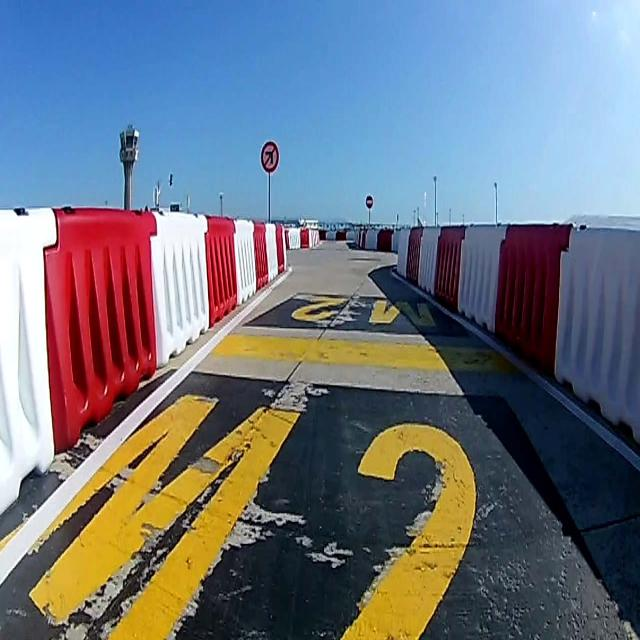girisyok: (366, 192, 374, 210)
soladonulmez: (260, 141, 279, 176)
